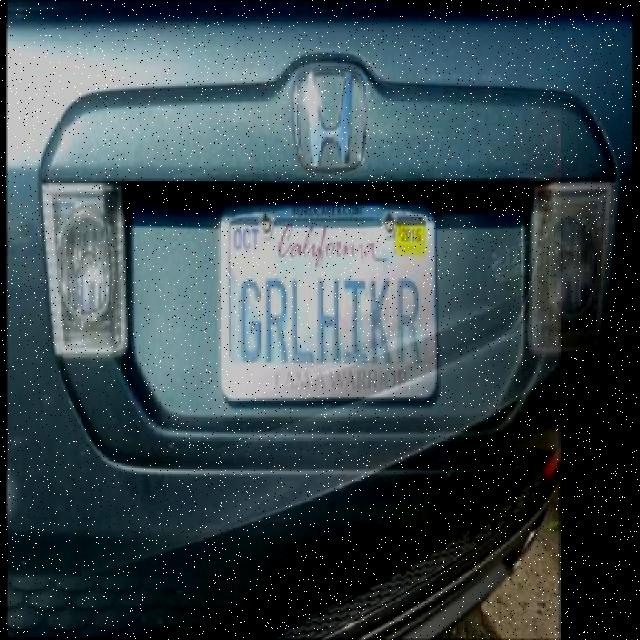licenseplate: (218, 208, 437, 404)
